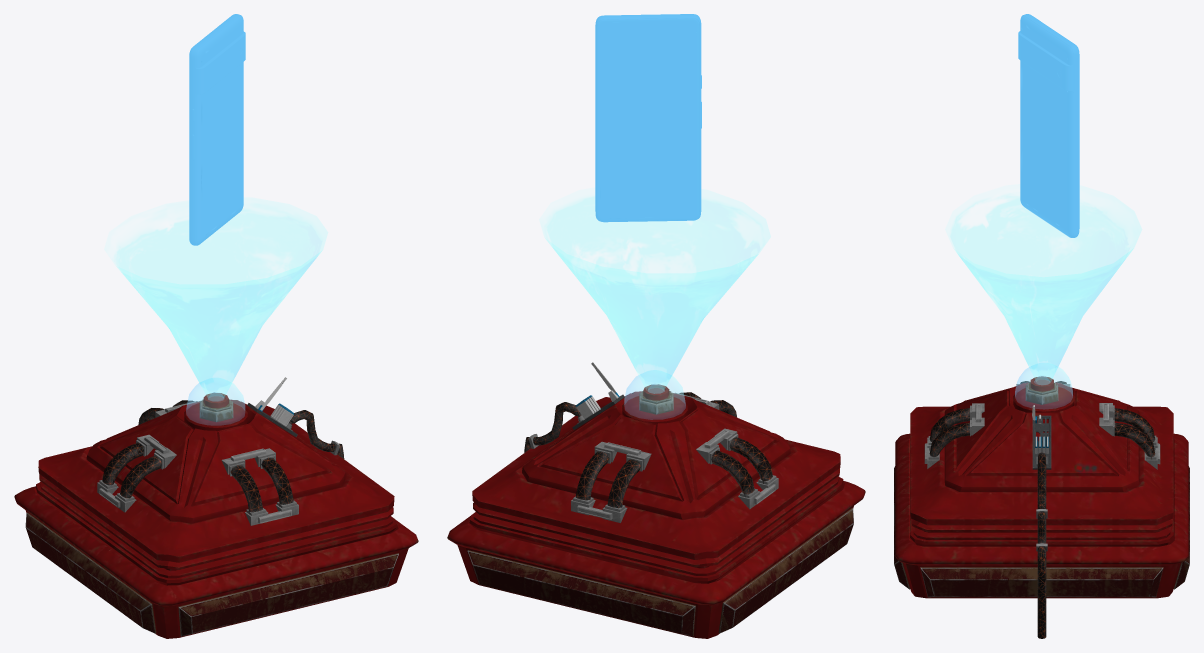
Rendered from Phone.glb.
3 views of the same model, side by side, from view 1: azimuth 30°, elevation 25°; view 2: azimuth 150°, elevation 25°; view 3: azimuth 270°, elevation 25° (orthographic). The views are drawn at different scales.
Parts seen in each view (by area): view 1: Box009_blue_dongle_0, Pixel 7 Pro, Cylinder008_13 - Default_0, lens_glass_0; view 2: Box009_blue_dongle_0, Pixel 7 Pro, Cylinder008_13 - Default_0, lens_glass_0; view 3: Box009_blue_dongle_0, Pixel 7 Pro, Cylinder008_13 - Default_0, lens_glass_0.
Part boxes in pixels (x1,y1,x2,y2): Box009_blue_dongle_0: (14,377,418,638); Pixel 7 Pro: (189,14,245,245); Cylinder008_13 - Default_0: (116,250,321,397); lens_glass_0: (186,378,244,425); Box009_blue_dongle_0: (447,362,865,638); Pixel 7 Pro: (595,14,701,222); Cylinder008_13 - Default_0: (545,238,758,390); lens_glass_0: (624,370,685,419); Box009_blue_dongle_0: (894,376,1189,638); Pixel 7 Pro: (1018,14,1079,237); Cylinder008_13 - Default_0: (953,248,1133,381); lens_glass_0: (1015,363,1072,408).
Size of the model in its own units: 0.427 by 0.8204 by 0.4047.
11 materials, 10 textured.
